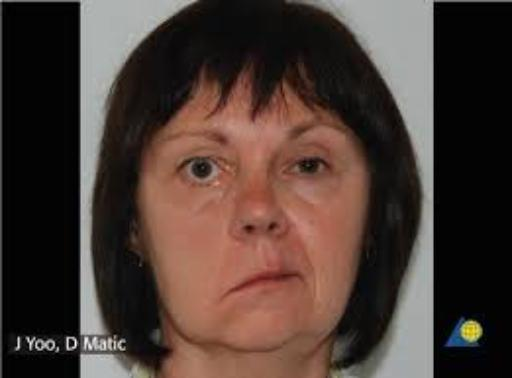left_eye: (283, 158, 335, 179)
left_lip_corner: (287, 268, 310, 285)
right_eye: (175, 158, 230, 186)
right_lip_corner: (217, 284, 249, 301)
